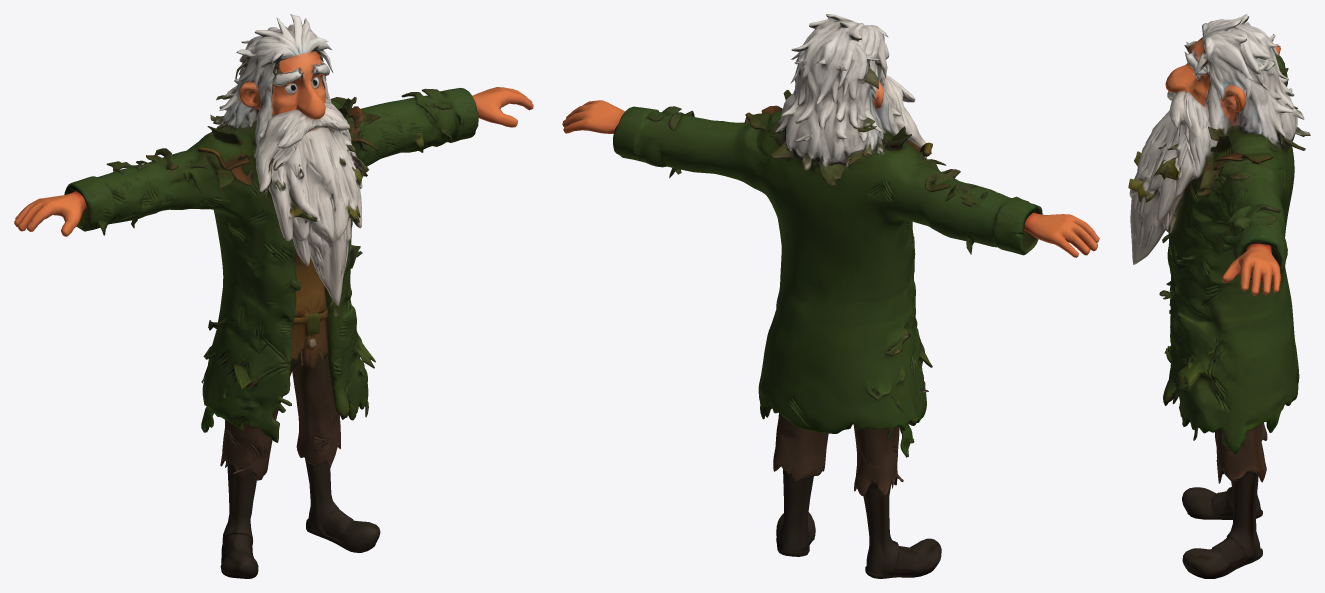
The model's file is old_bramble.glb.
3 views of the same model, side by side, from view 1: azimuth 30°, elevation 25°; view 2: azimuth 150°, elevation 25°; view 3: azimuth 270°, elevation 25° (orthographic). The views are drawn at different scales.
Visible parts, largest first — view 1: tripo_node_a9538682-4cfd-4f11-9129-3289b9e17f2a; view 2: tripo_node_a9538682-4cfd-4f11-9129-3289b9e17f2a; view 3: tripo_node_a9538682-4cfd-4f11-9129-3289b9e17f2a.
Part boxes in pixels (<box>): tripo_node_a9538682-4cfd-4f11-9129-3289b9e17f2a: <box>14,14,533,578</box>; tripo_node_a9538682-4cfd-4f11-9129-3289b9e17f2a: <box>562,14,1099,578</box>; tripo_node_a9538682-4cfd-4f11-9129-3289b9e17f2a: <box>1128,14,1310,578</box>.
Size of the model in its own units: 0.9829 by 0.9736 by 0.3036.
Materials: 1 (1 with a texture image).
